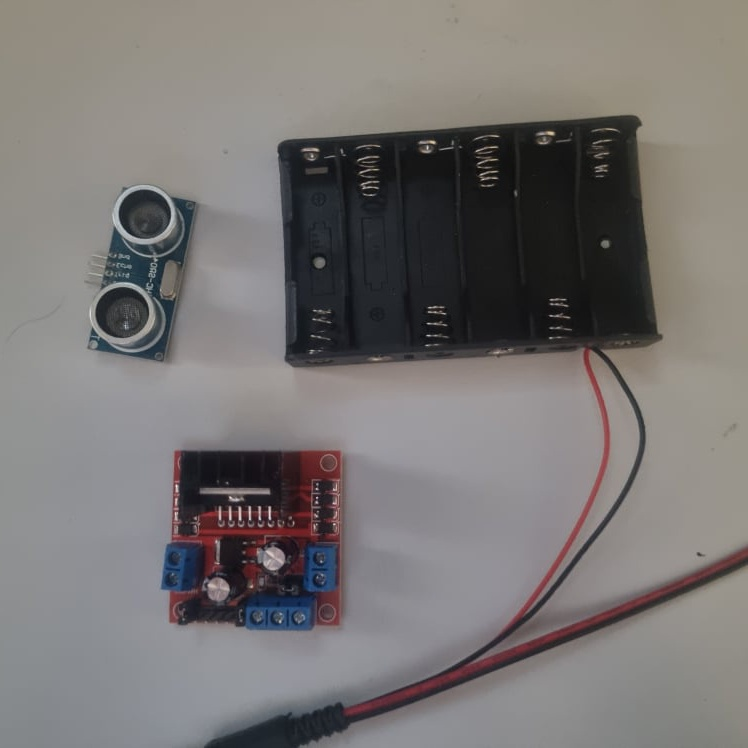BATTERY BOX: (275, 111, 665, 366)
MOTOR: (161, 449, 344, 630)
SENSOR: (82, 179, 198, 364)
